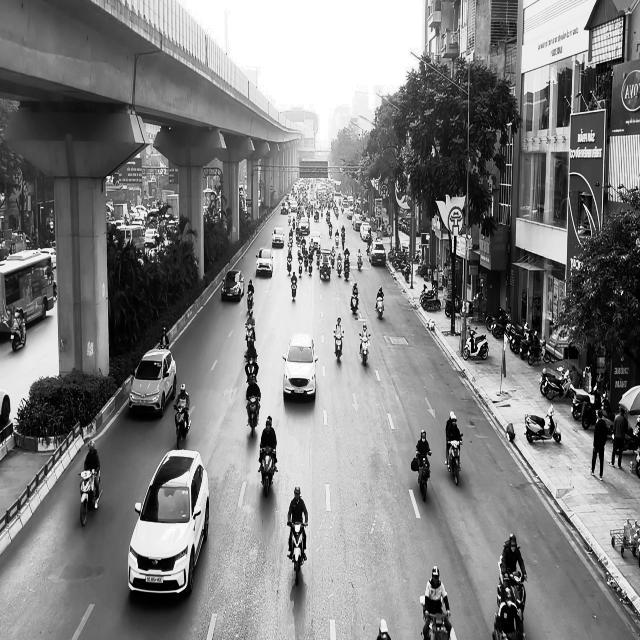bus: (0, 248, 55, 336)
car: (128, 449, 210, 596), (128, 348, 177, 418), (282, 332, 319, 401), (221, 270, 245, 302), (256, 248, 274, 276), (272, 227, 285, 247)
motorbike: (497, 560, 527, 620), (524, 403, 562, 444), (79, 467, 103, 526), (420, 596, 451, 640), (288, 521, 308, 585), (258, 445, 278, 497), (414, 450, 432, 501), (446, 433, 463, 486), (463, 327, 489, 360), (174, 404, 192, 449), (10, 307, 27, 351), (246, 395, 261, 437), (244, 354, 259, 384), (360, 333, 371, 366), (334, 330, 344, 362), (245, 322, 256, 349), (350, 291, 359, 313), (376, 294, 384, 318), (247, 289, 254, 314), (291, 278, 297, 300)
